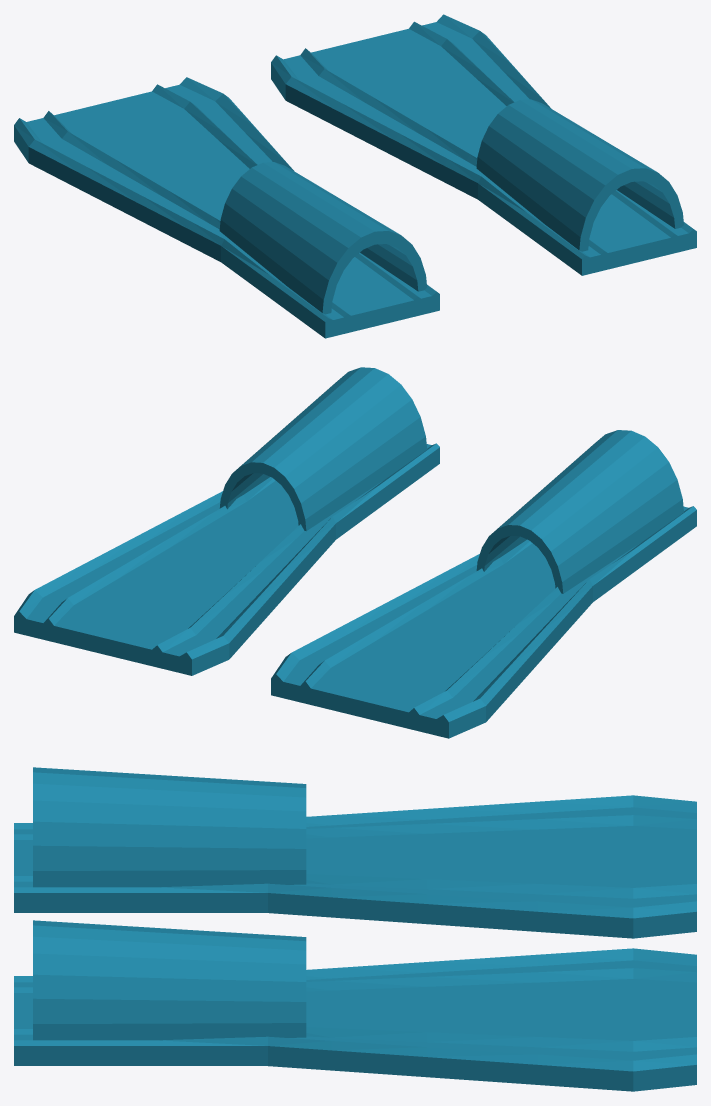
File: NEW_RECOVERY_073_LOD0.glb
The picture shows the model from 3 angles, top to bottom: view 1: azimuth 30°, elevation 25°; view 2: azimuth 150°, elevation 25°; view 3: azimuth 270°, elevation 25°; orthographic projection. The views are drawn at different scales.
Visible parts, largest first — view 1: FinRight, FinLeft; view 2: FinRight, FinLeft; view 3: FinLeft, FinRight.
Boxes of the visible parts, bbox=[...] form: FinRight: bbox=[271, 14, 696, 275]; FinLeft: bbox=[14, 77, 439, 338]; FinRight: bbox=[14, 367, 439, 675]; FinLeft: bbox=[271, 430, 696, 738]; FinLeft: bbox=[14, 767, 696, 938]; FinRight: bbox=[14, 920, 696, 1091].
Bounding box in the file's own units: 2.03 × 0.37 × 2.15.
